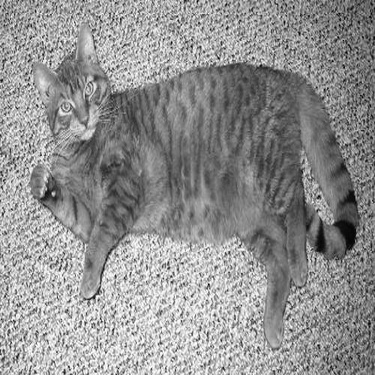cat: (13, 24, 365, 346)
